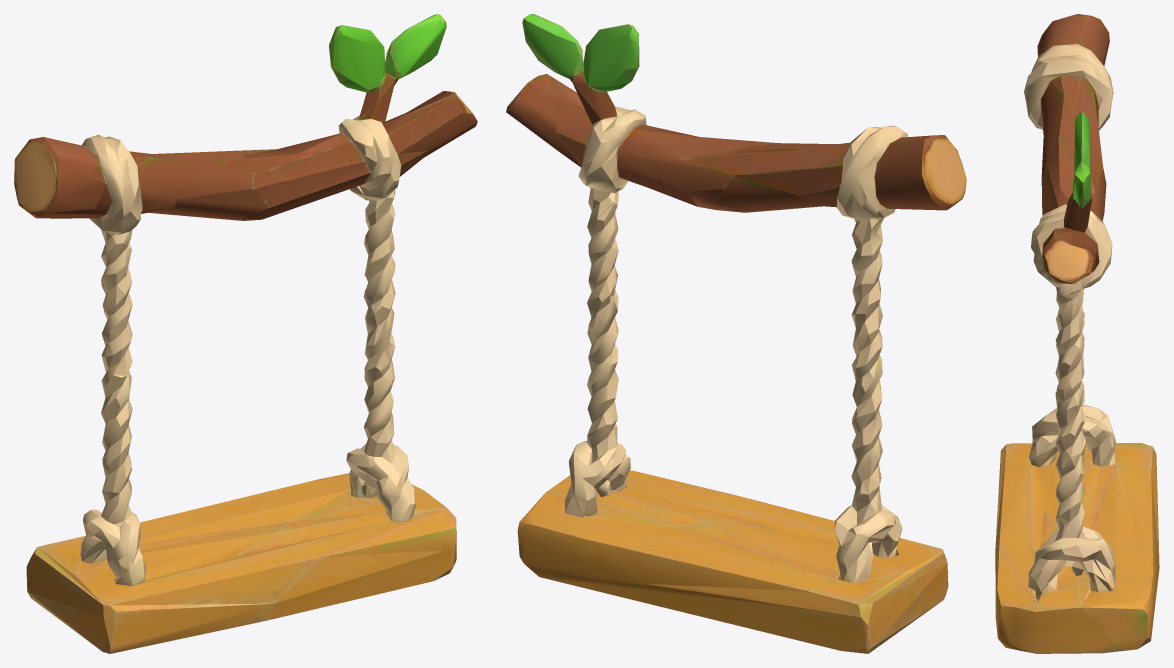
The model's file is swing.glb.
The picture shows the model from 3 angles, left to right: view 1: azimuth 30°, elevation 25°; view 2: azimuth 150°, elevation 25°; view 3: azimuth 270°, elevation 25°; orthographic projection. The views are drawn at different scales.
Bounding box in the file's own units: 1.65 × 1.89 × 0.5587.
1 material, 1 textured.
